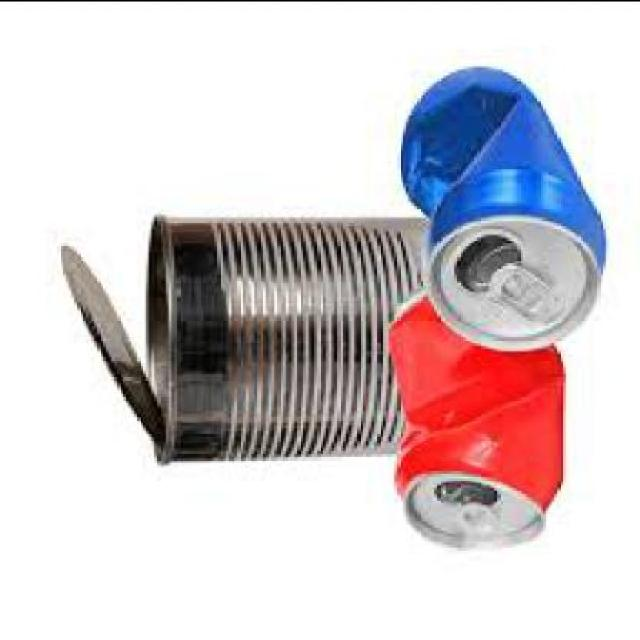BIODEGRADABLE: (480, 256, 560, 321), (448, 492, 494, 534)
METAL: (143, 208, 446, 460), (397, 62, 600, 347), (385, 291, 561, 543), (55, 238, 162, 442)
